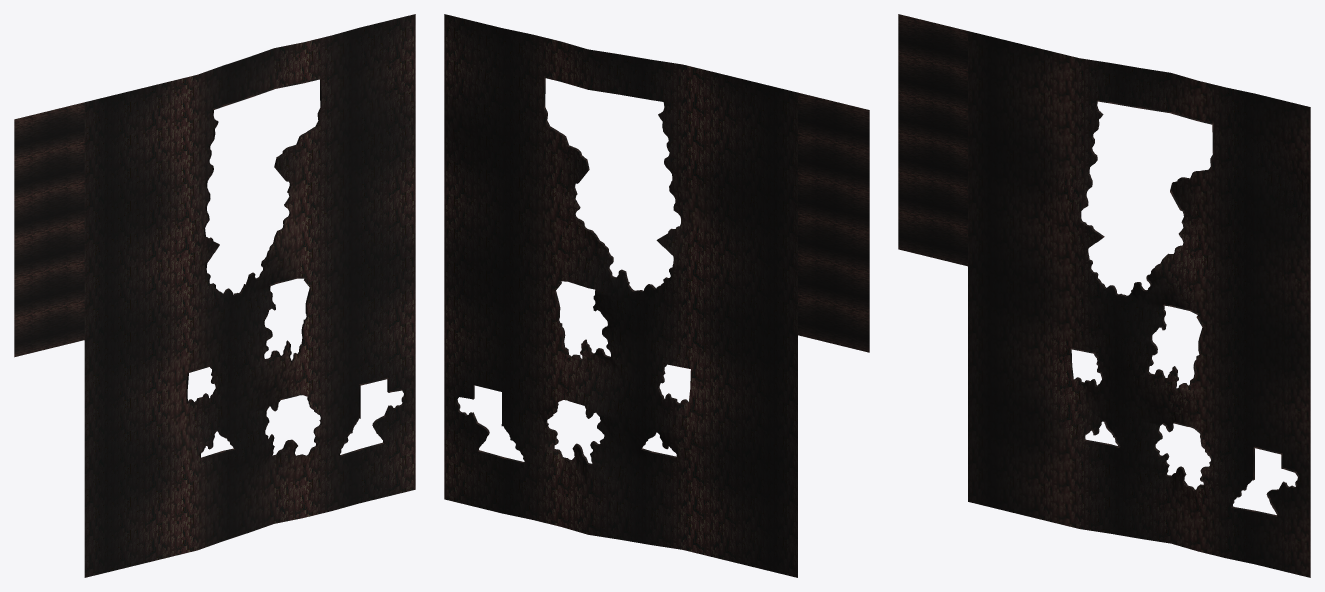
Rendered from Room9 - BG1.fbx.
3 renders of one model, left to right at view 1: azimuth 30°, elevation 25°; view 2: azimuth 150°, elevation 25°; view 3: azimuth 330°, elevation 25°, orthographic. The views are drawn at different scales.
Visible parts, largest first — view 1: pCube77; view 2: pCube77; view 3: pCube77.
Boxes of the visible parts, x1,y1,x2,y2 form: pCube77: (14,14,415,577); pCube77: (444,14,869,577); pCube77: (898,14,1310,577).
Size of the model in its own units: 11.81 by 13.13 by 0.8067.
